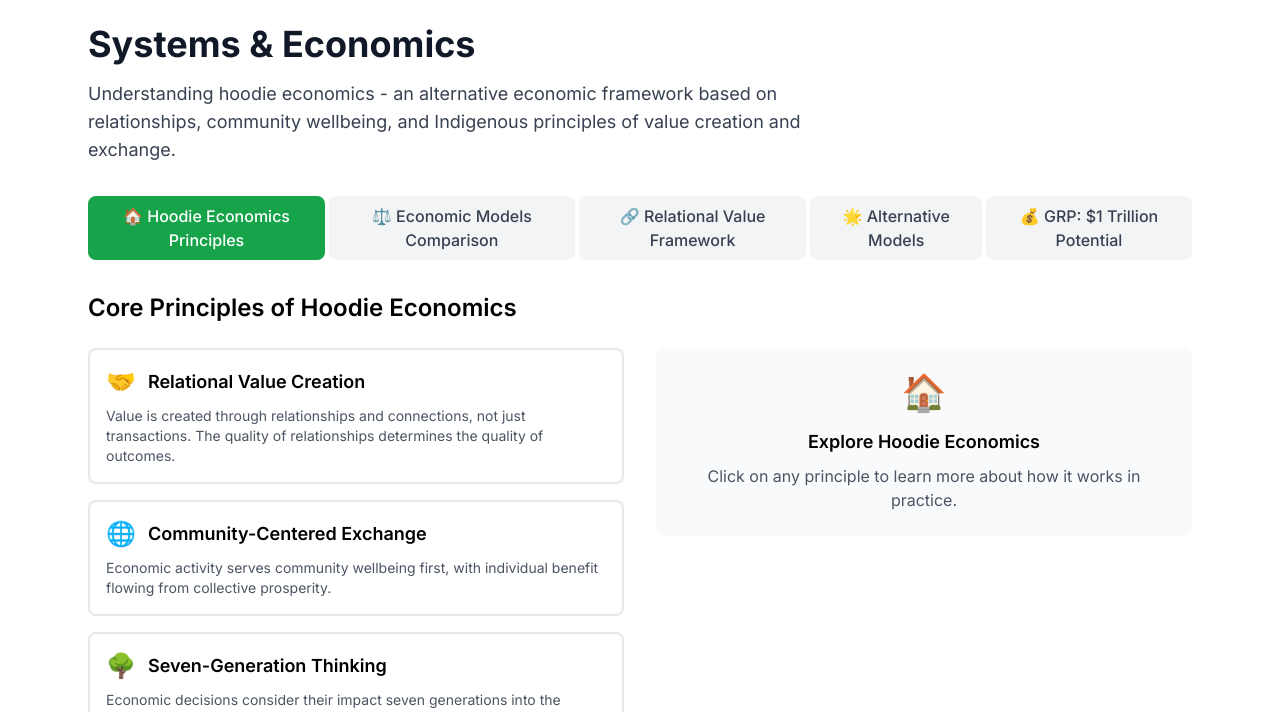
Test: Knowledge Synthesis Hub › Systems Economics Component › shows economic comparison table
This screenshot has width=1280, height=712.
Click the button "⚖️ Economic Models Comparison" at (452, 228), box [329,196,575,260]
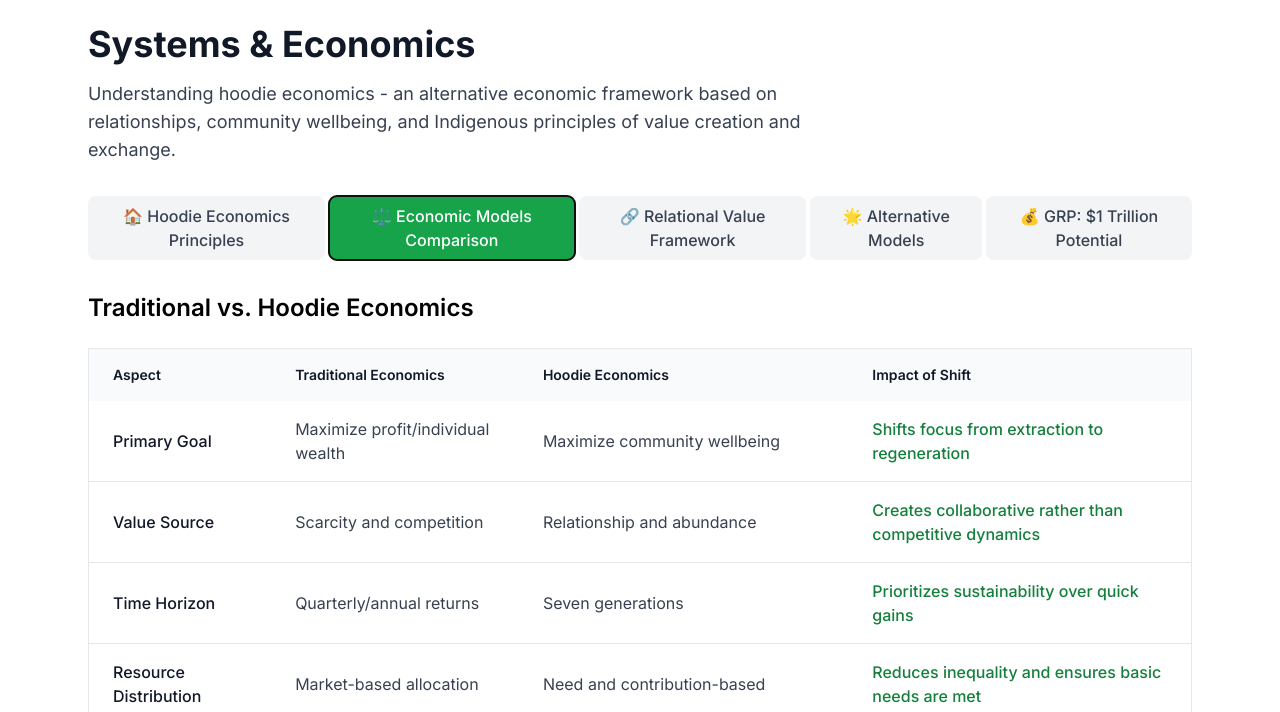
Check: the heading "Traditional vs. Hoodie Economics" is shown, box [88,293,474,322]
Check: the text "Primary Goal" is shown, box [88,401,271,482]
